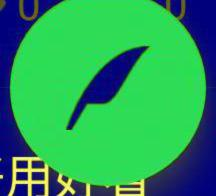ImgButton: (1, 1, 215, 195)
